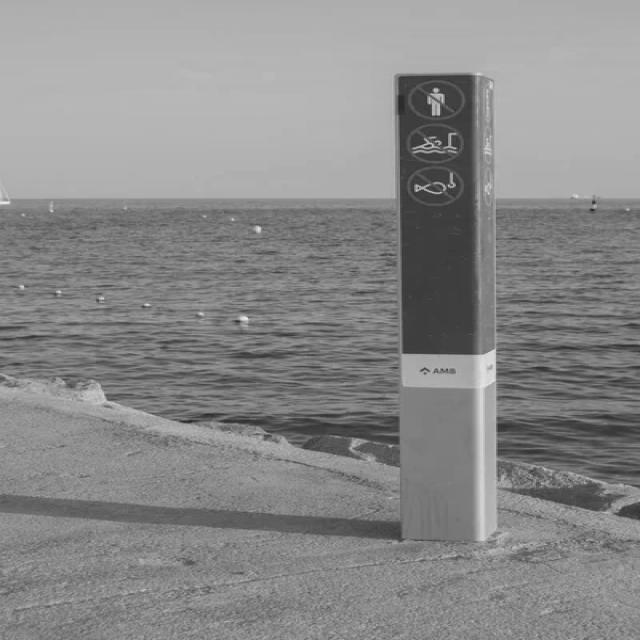Pole: (399, 74, 498, 541)
